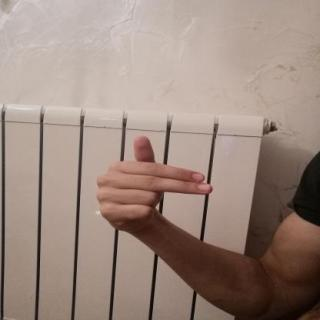GHAYN: (84, 131, 220, 236)
